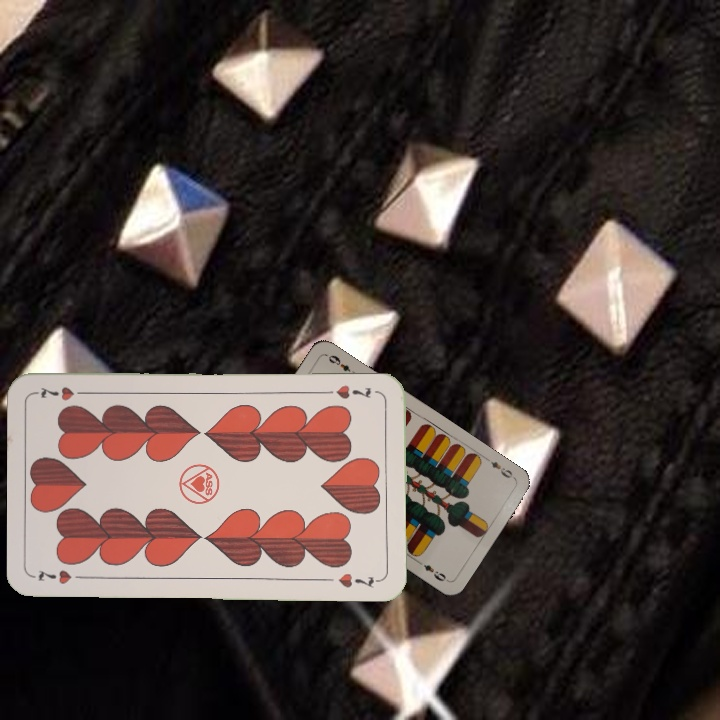E9: (482, 454, 518, 482)
H7: (31, 566, 90, 587), (332, 381, 374, 402)
